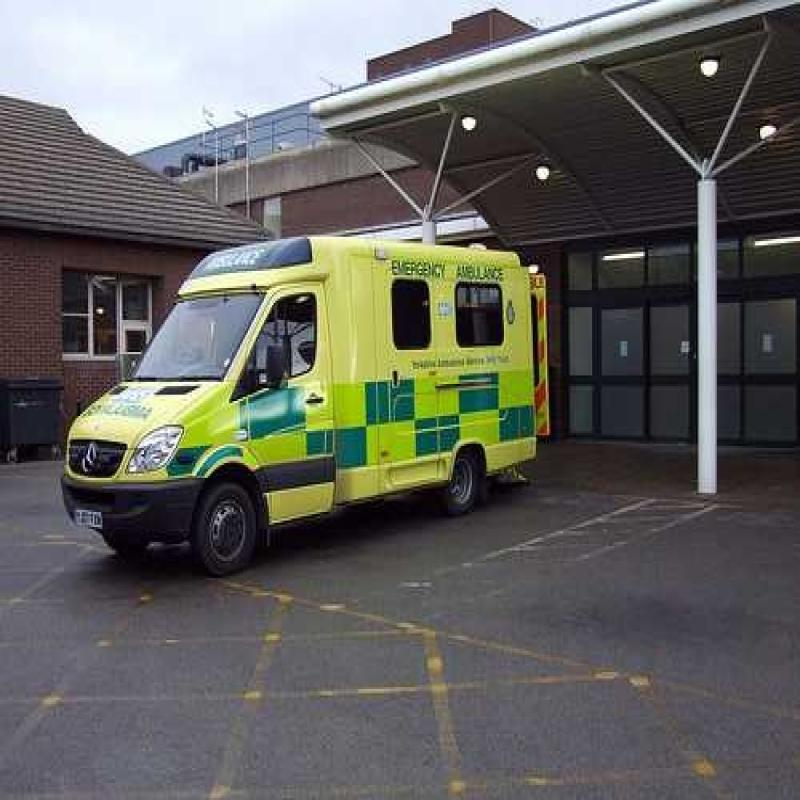AmbulanceSiren: (176, 229, 323, 289)
